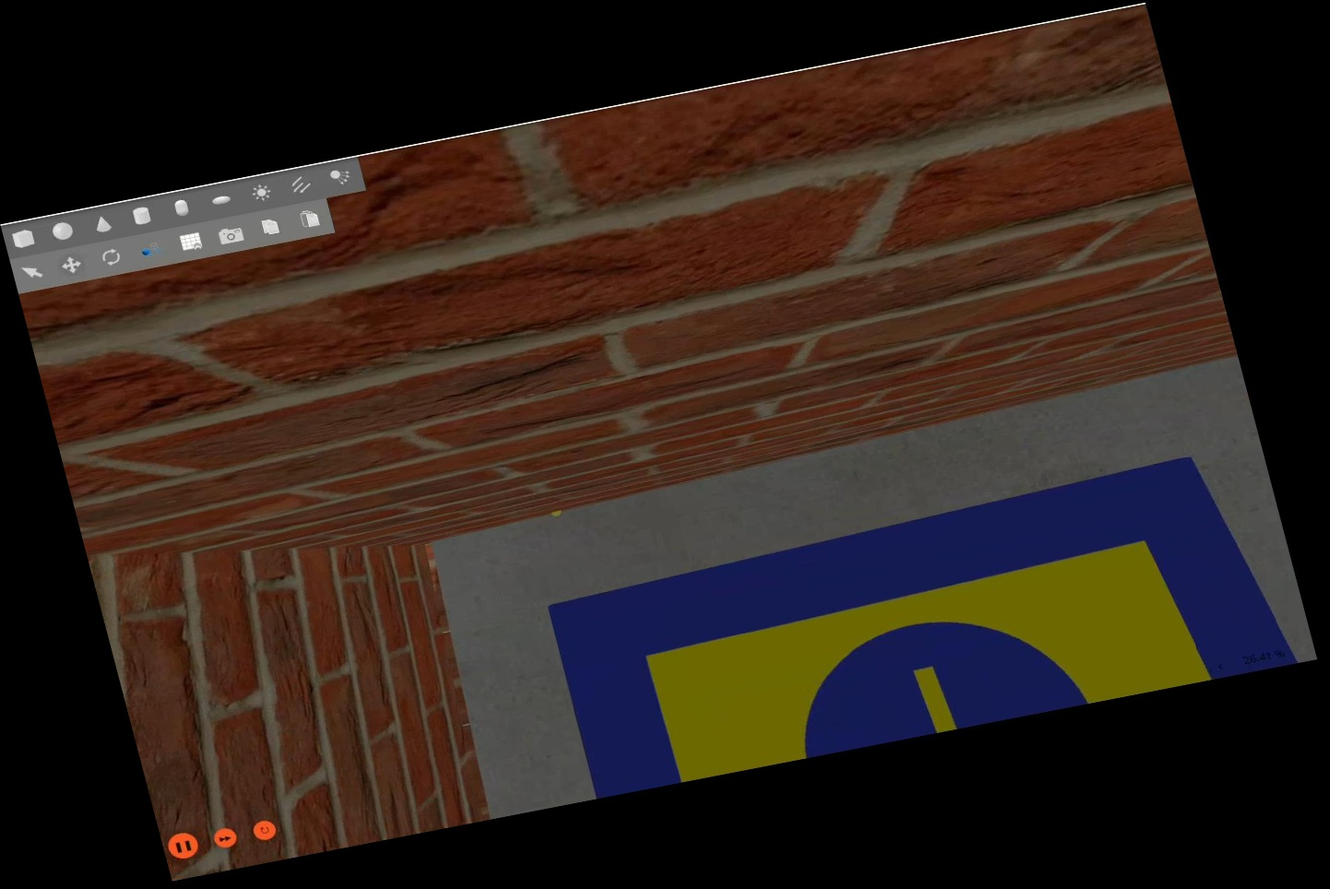large_base: (540, 446, 1299, 800)
